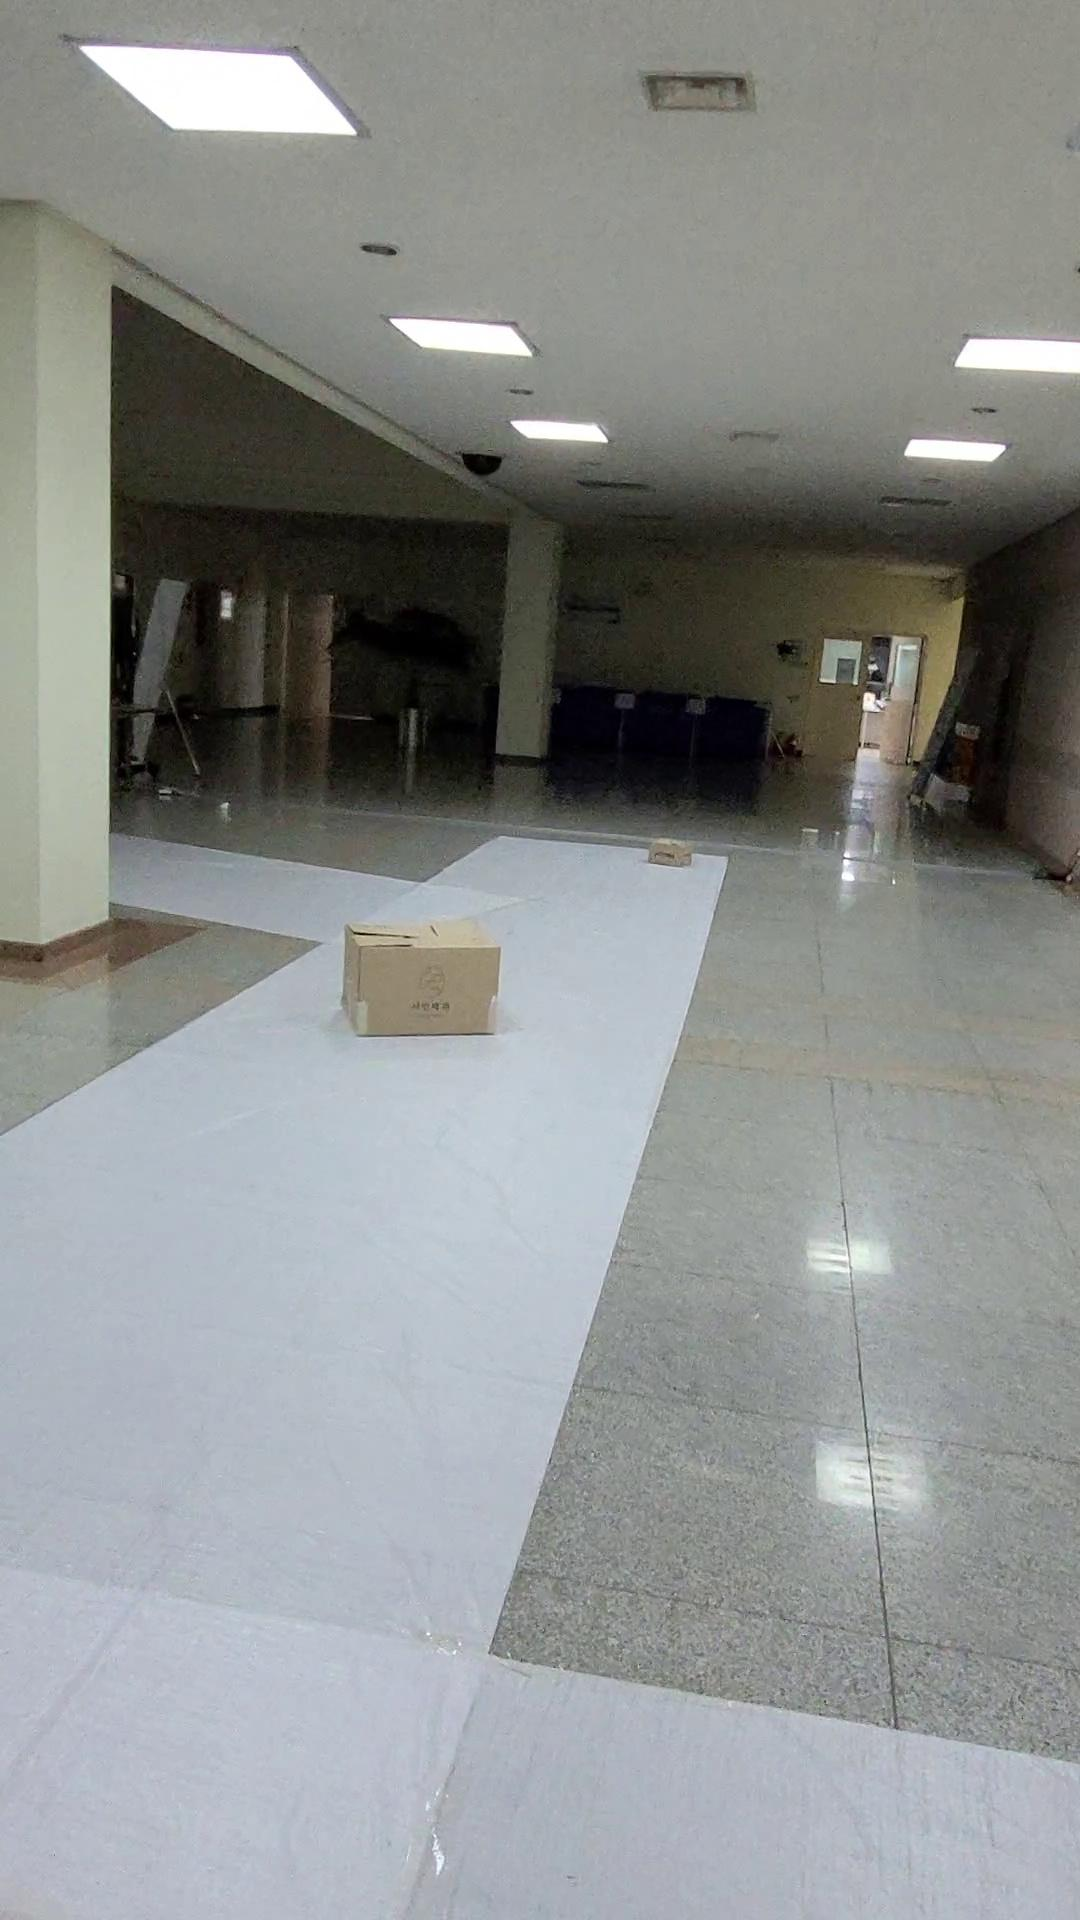Box: (336, 903, 516, 1048), (641, 823, 695, 887)
